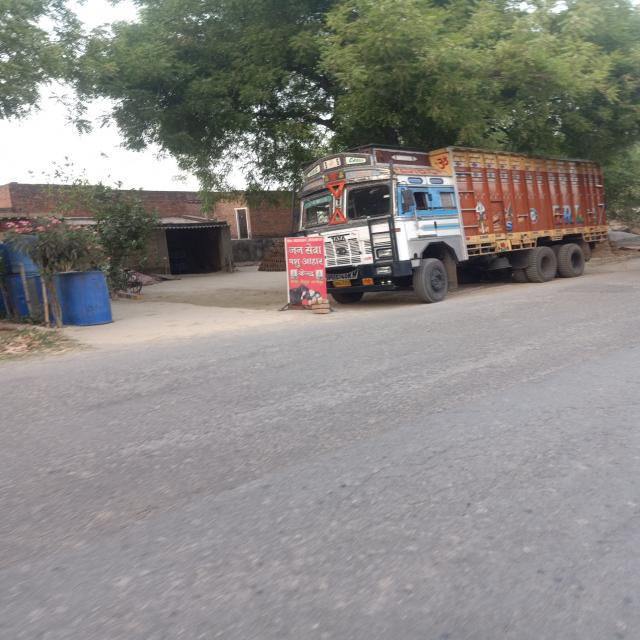Truck: (304, 160, 602, 294)
